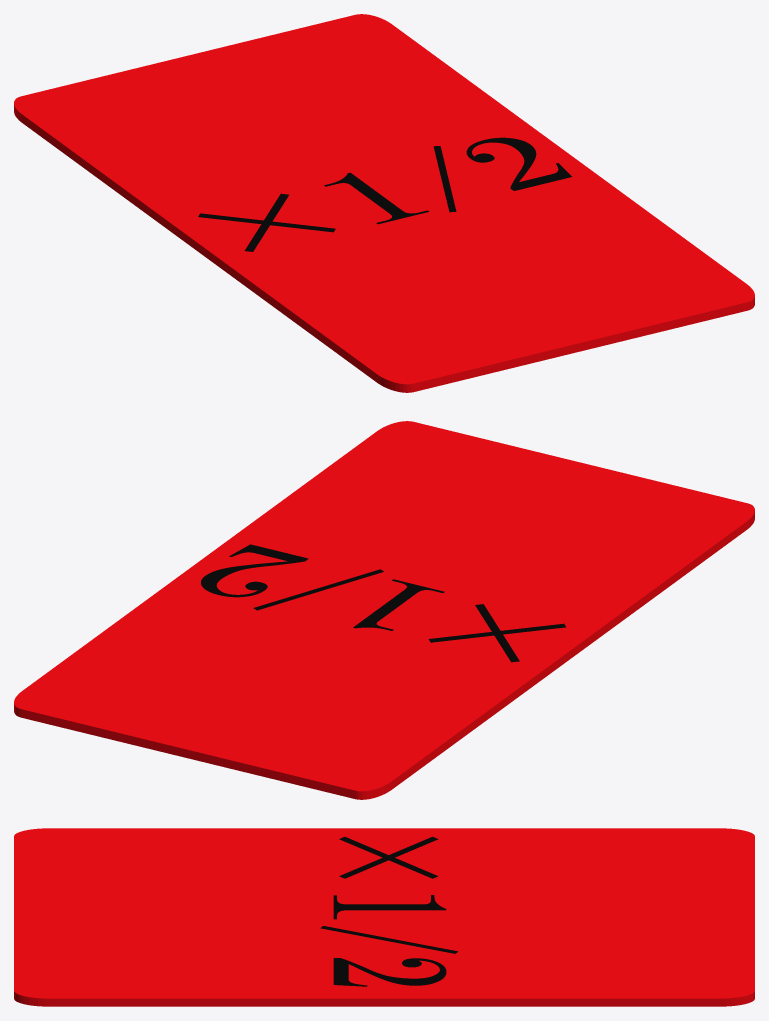
The model's file is Card_OneHalf.fbx.
3 renders of one model, top to bottom at view 1: azimuth 30°, elevation 25°; view 2: azimuth 150°, elevation 25°; view 3: azimuth 270°, elevation 25°, orthographic. The views are drawn at different scales.
Parts seen in each view (by area): view 1: Cube, Text.001; view 2: Cube, Text.001; view 3: Cube, Text.001.
Boxes of the visible parts, box(x1,y1,x2,y2) form: Cube: box(14, 14, 754, 392); Text.001: box(198, 137, 571, 251); Cube: box(14, 421, 754, 799); Text.001: box(201, 544, 565, 662); Cube: box(14, 828, 754, 1006); Text.001: box(320, 836, 457, 986).
Bounding box in the file's own units: 109 × 3.99 × 200.
